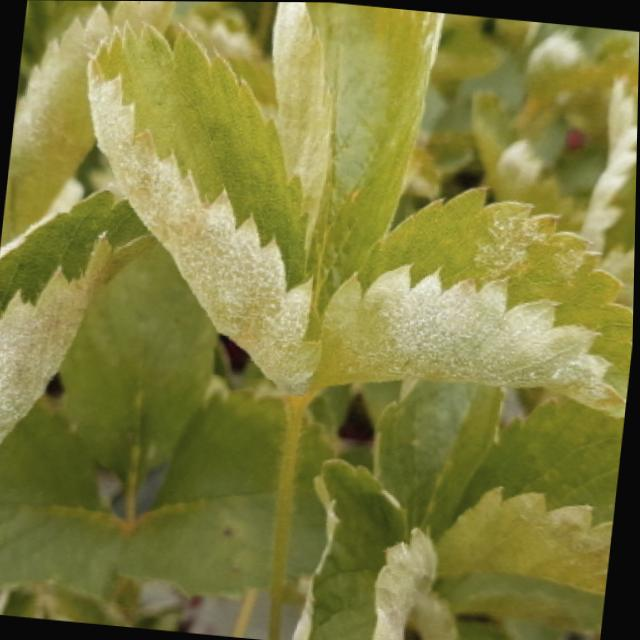Powdery Mildew Leaf: (85, 19, 327, 398), (303, 185, 635, 418), (271, 2, 447, 335), (0, 186, 163, 451), (6, 1, 175, 243), (294, 458, 443, 640)
